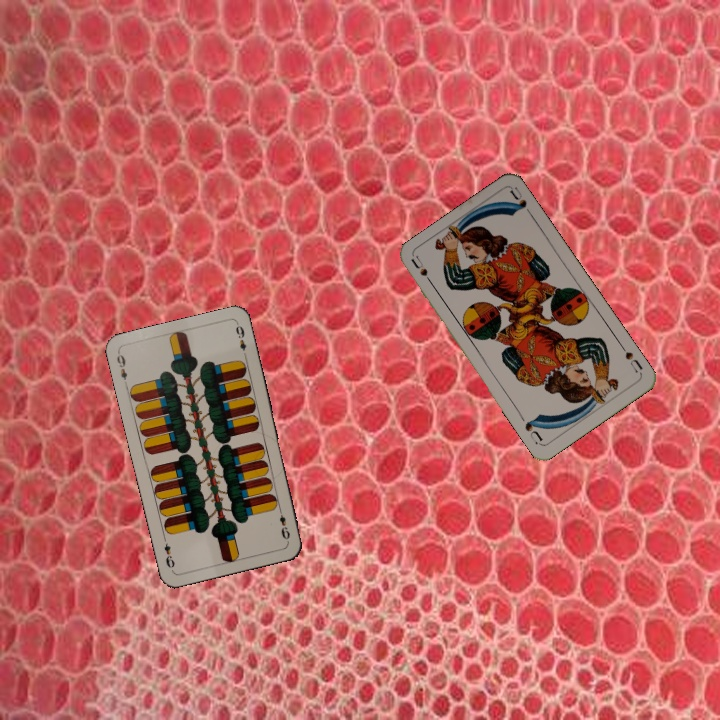E9: (275, 504, 292, 544), (113, 349, 130, 389)
SU: (408, 252, 437, 290), (616, 341, 645, 375)
